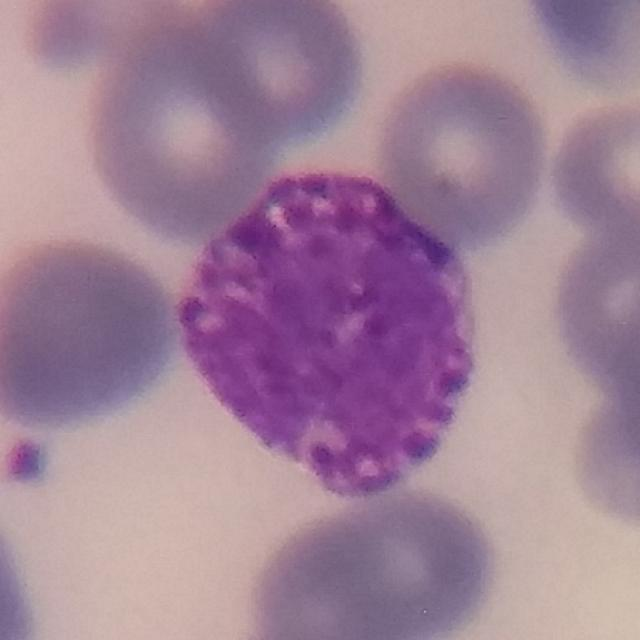Basophil: (161, 144, 503, 512)
Platelets: (1, 435, 52, 491)
RBC: (82, 28, 280, 239), (244, 483, 505, 640), (0, 230, 187, 436), (372, 56, 554, 245), (184, 0, 372, 146), (543, 86, 640, 248), (545, 220, 640, 385), (563, 364, 640, 536), (516, 0, 639, 101), (9, 0, 146, 75), (0, 501, 45, 640)
